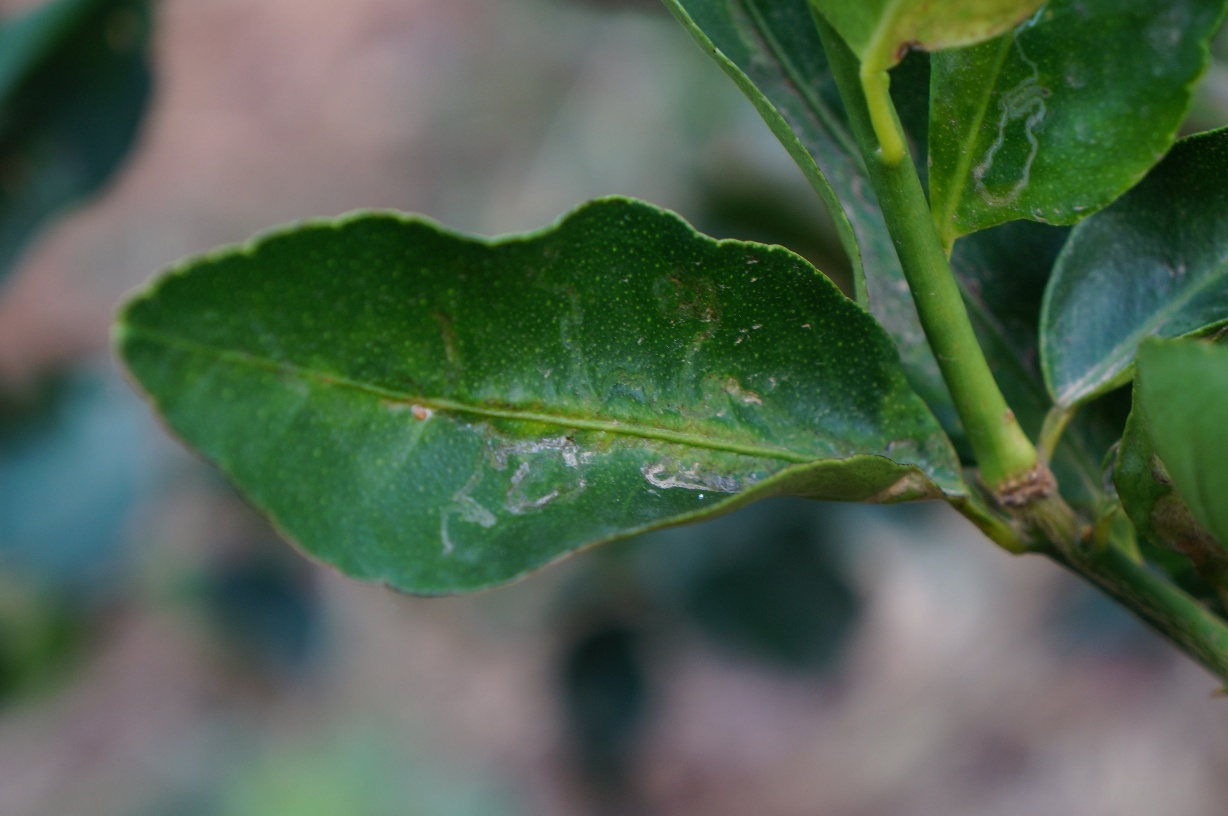damage: (433, 415, 604, 557), (968, 59, 1054, 222), (636, 438, 765, 518)
